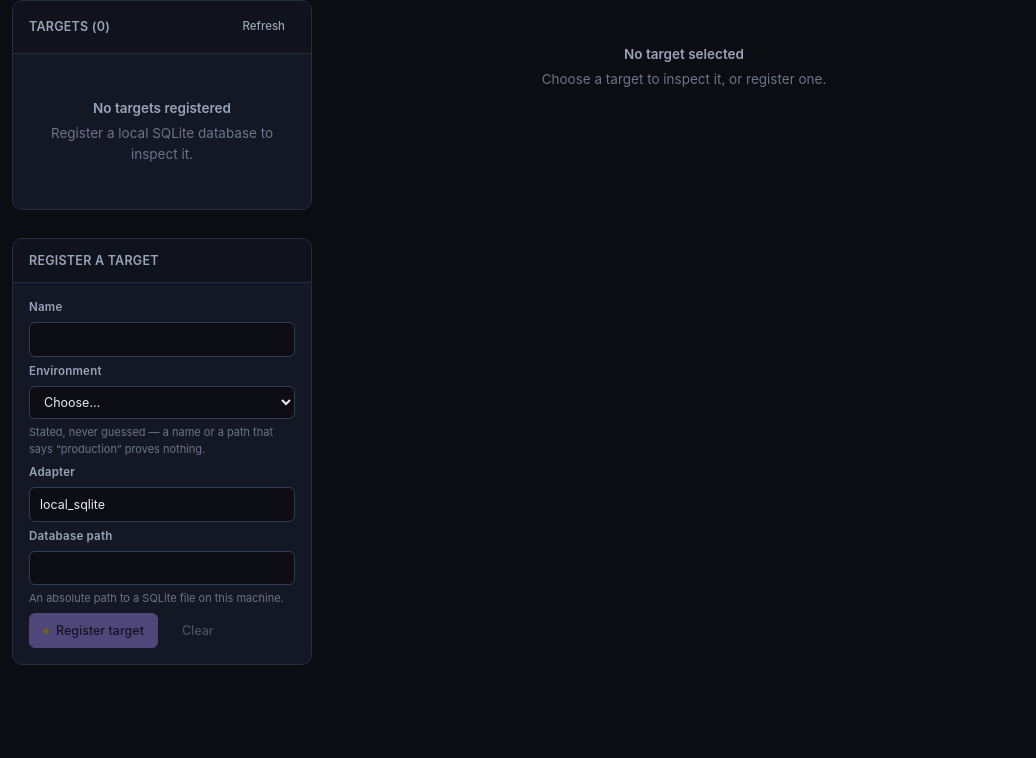
a registration whose reply was lost › says it was not registered when a complete re-read does not contain it
Expected: the text "No targets registered" is shown, top-left (93, 100), bottom-right (231, 116)
Type "Reports" into the field labelled "Name" at (162, 340), box top-left (29, 322), bottom-right (295, 357)
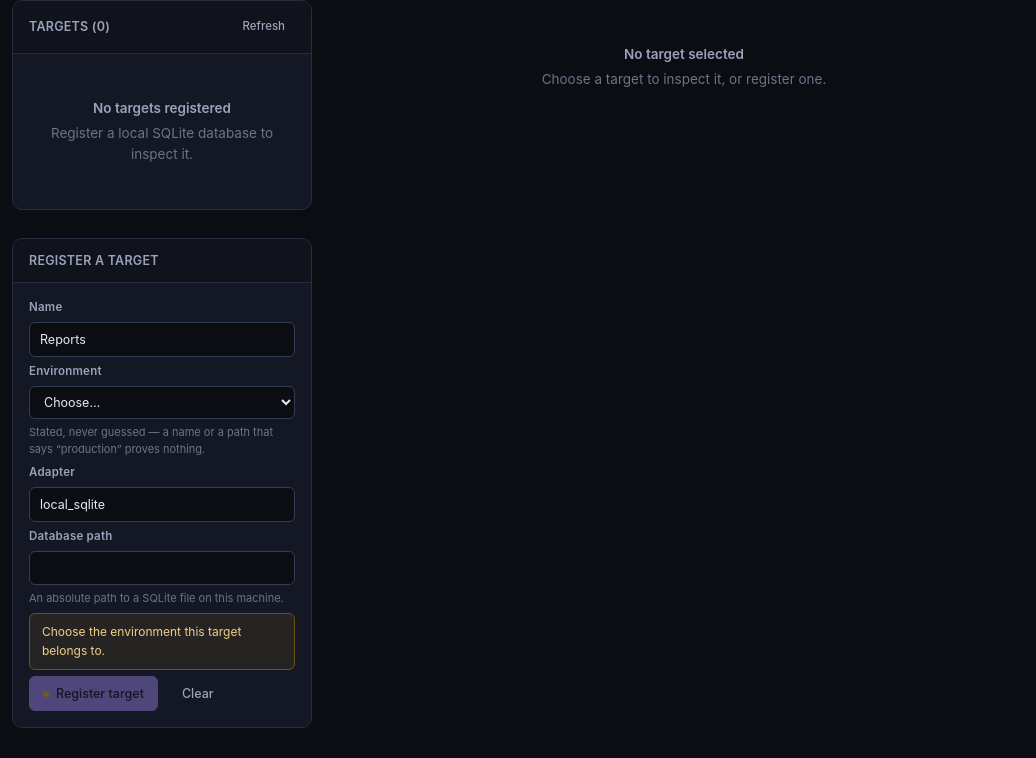
Select "local" in the dropdown labelled "Environment" at (162, 402), box top-left (29, 386), bottom-right (295, 419)
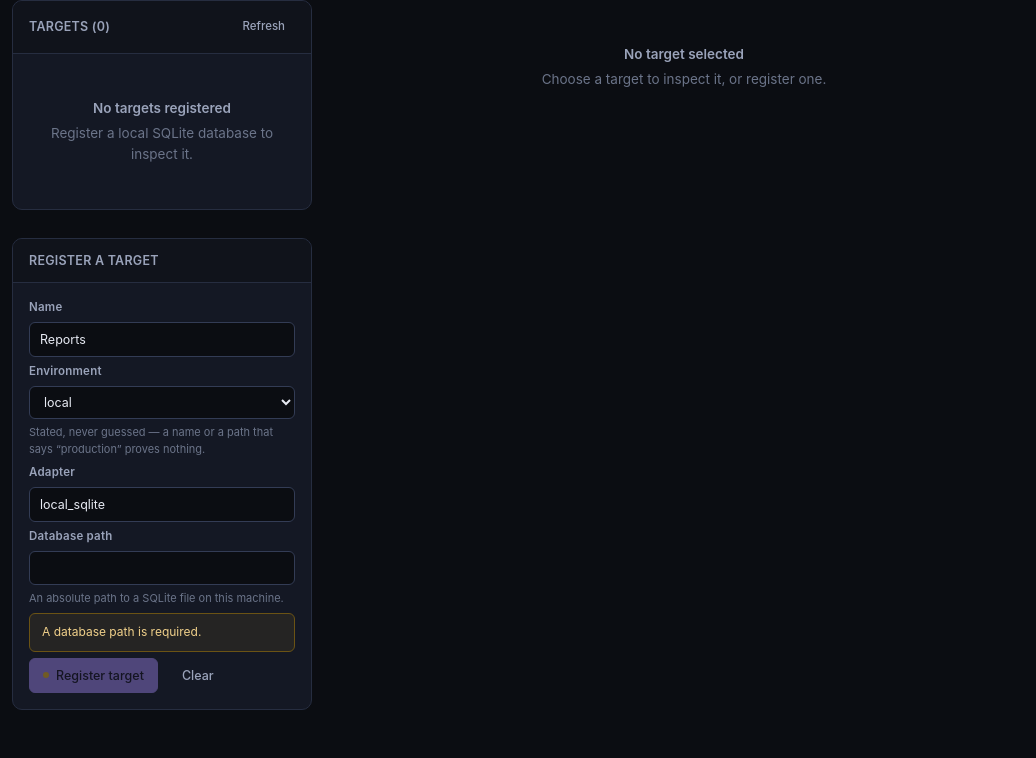
Type "C:\\data\\reports.sqlite" into the field labelled "Database path" at (162, 568), box top-left (29, 551), bottom-right (295, 585)
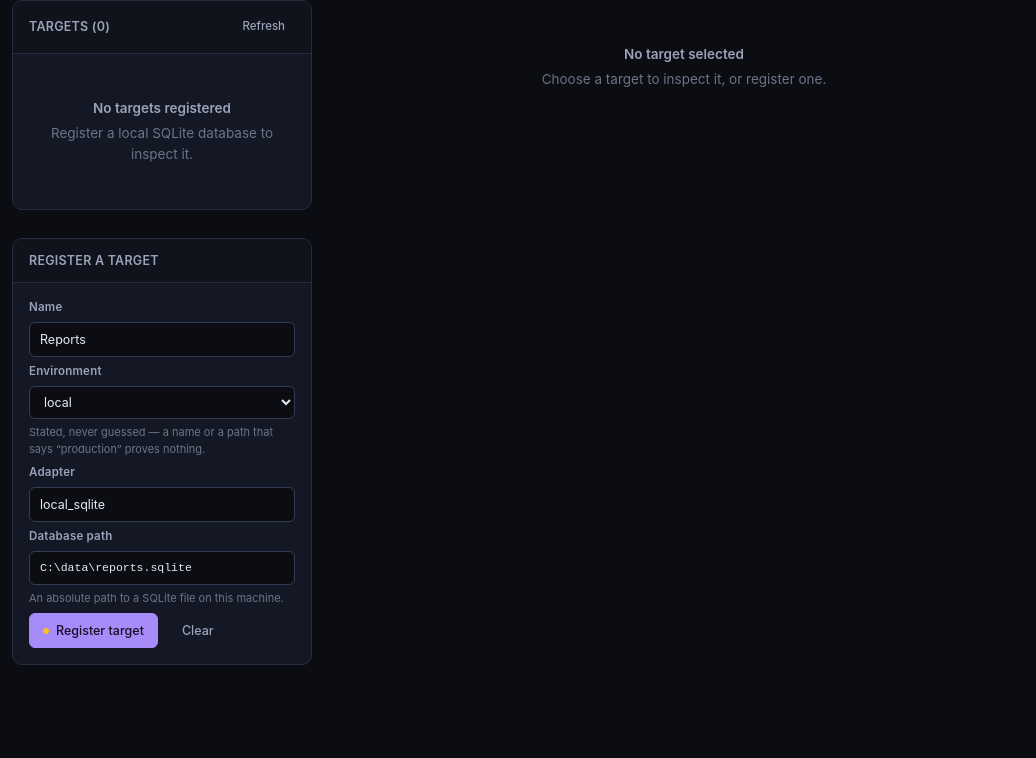
Click the button "Register target" at (93, 631), box top-left (29, 613), bottom-right (158, 648)
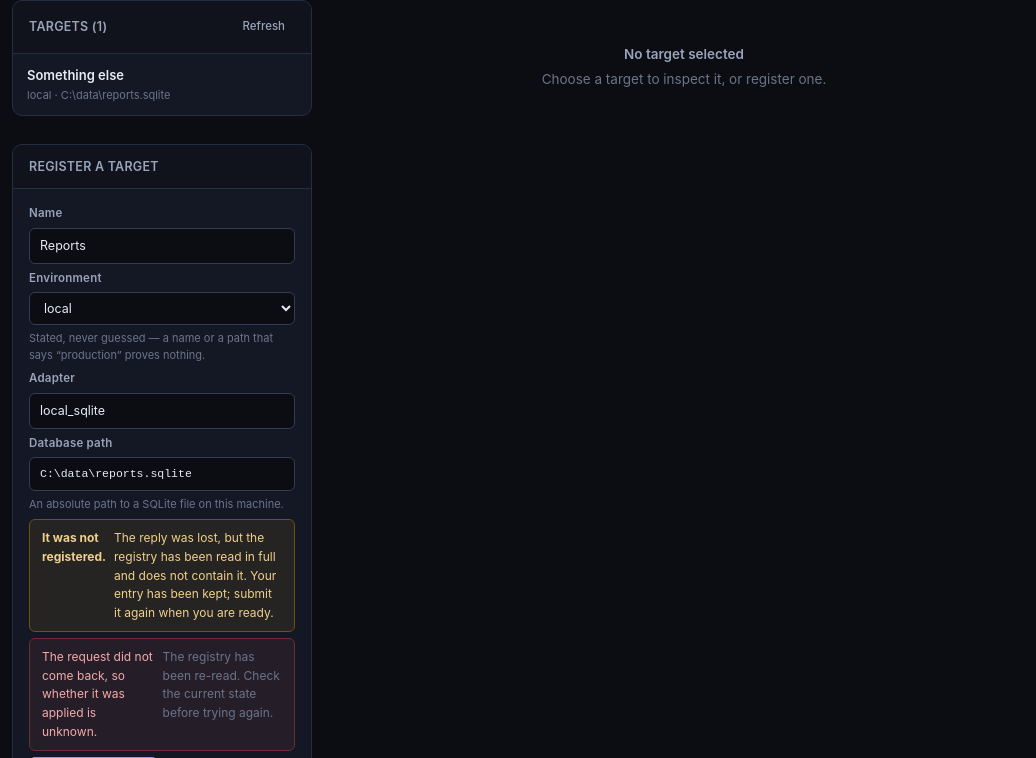
Expected: the text "registry has been read in full and does not contain it" is shown, top-left (114, 530), bottom-right (276, 620)
